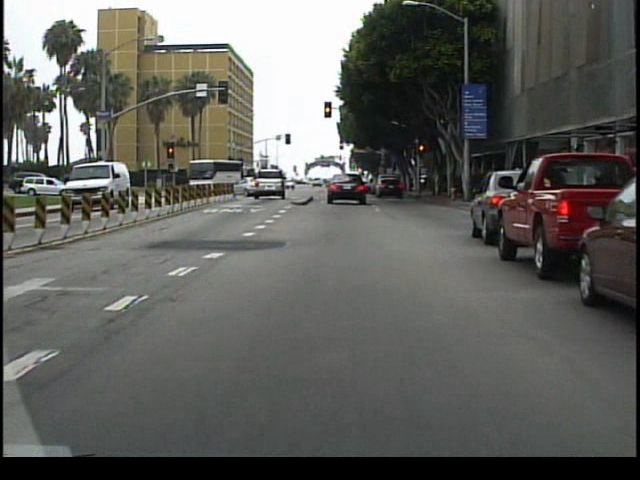person: (82, 174, 95, 208), (77, 173, 90, 204)
